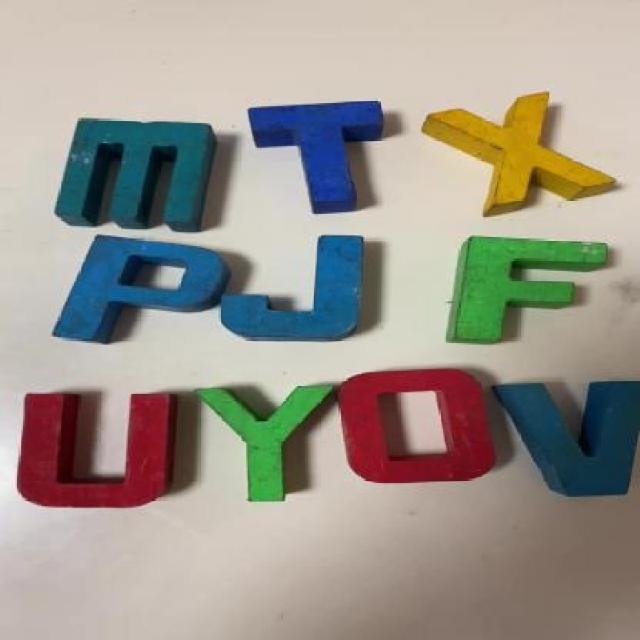F: (444, 238, 616, 345)
J: (228, 236, 364, 338)
M: (57, 119, 220, 226)
O: (338, 368, 494, 484)
P: (57, 237, 228, 346)
T: (250, 101, 395, 213)
U: (15, 392, 168, 508)
V: (504, 380, 638, 491)
X: (426, 91, 617, 212)
Y: (198, 385, 330, 501)
